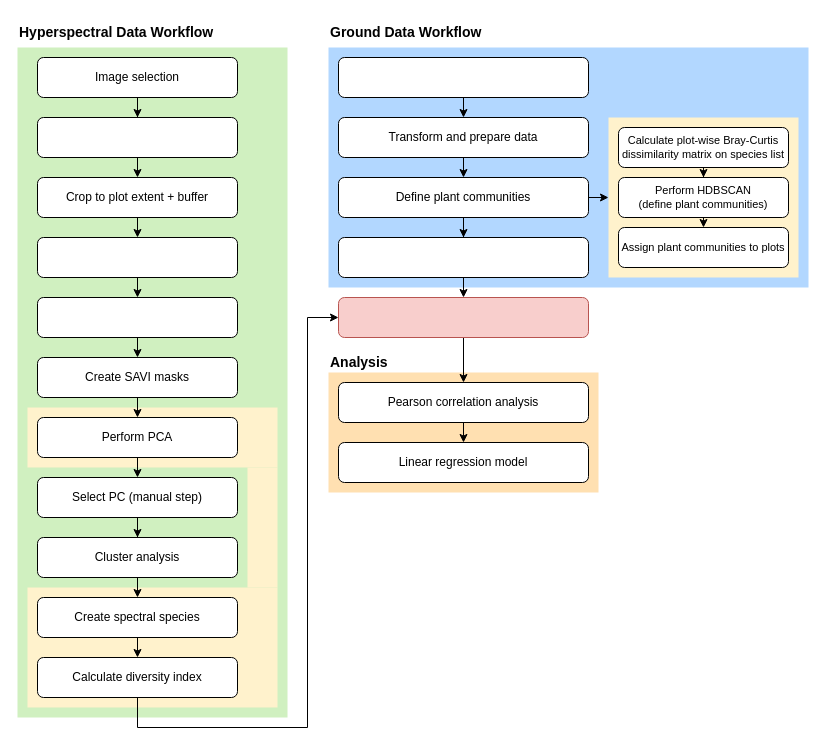
The diagram is 825 pixels wide and 753 high, and some of its shapes have lost their labels. Each missing label, with the centre of its shape:
"biodivMapR" belongs at pixel 262 527.
"Create RGB" belongs at pixel 137 317.
"Data aggregation" belongs at pixel 463 317.
"Extract plot data from Turboveg" belongs at pixel 463 77.
"Extract relevant indices (p lant community, plant species, habitat type)" belongs at pixel 463 257.
"Image rectification" belongs at pixel 137 257.
"Plot / Testsite selection" belongs at pixel 137 137.
